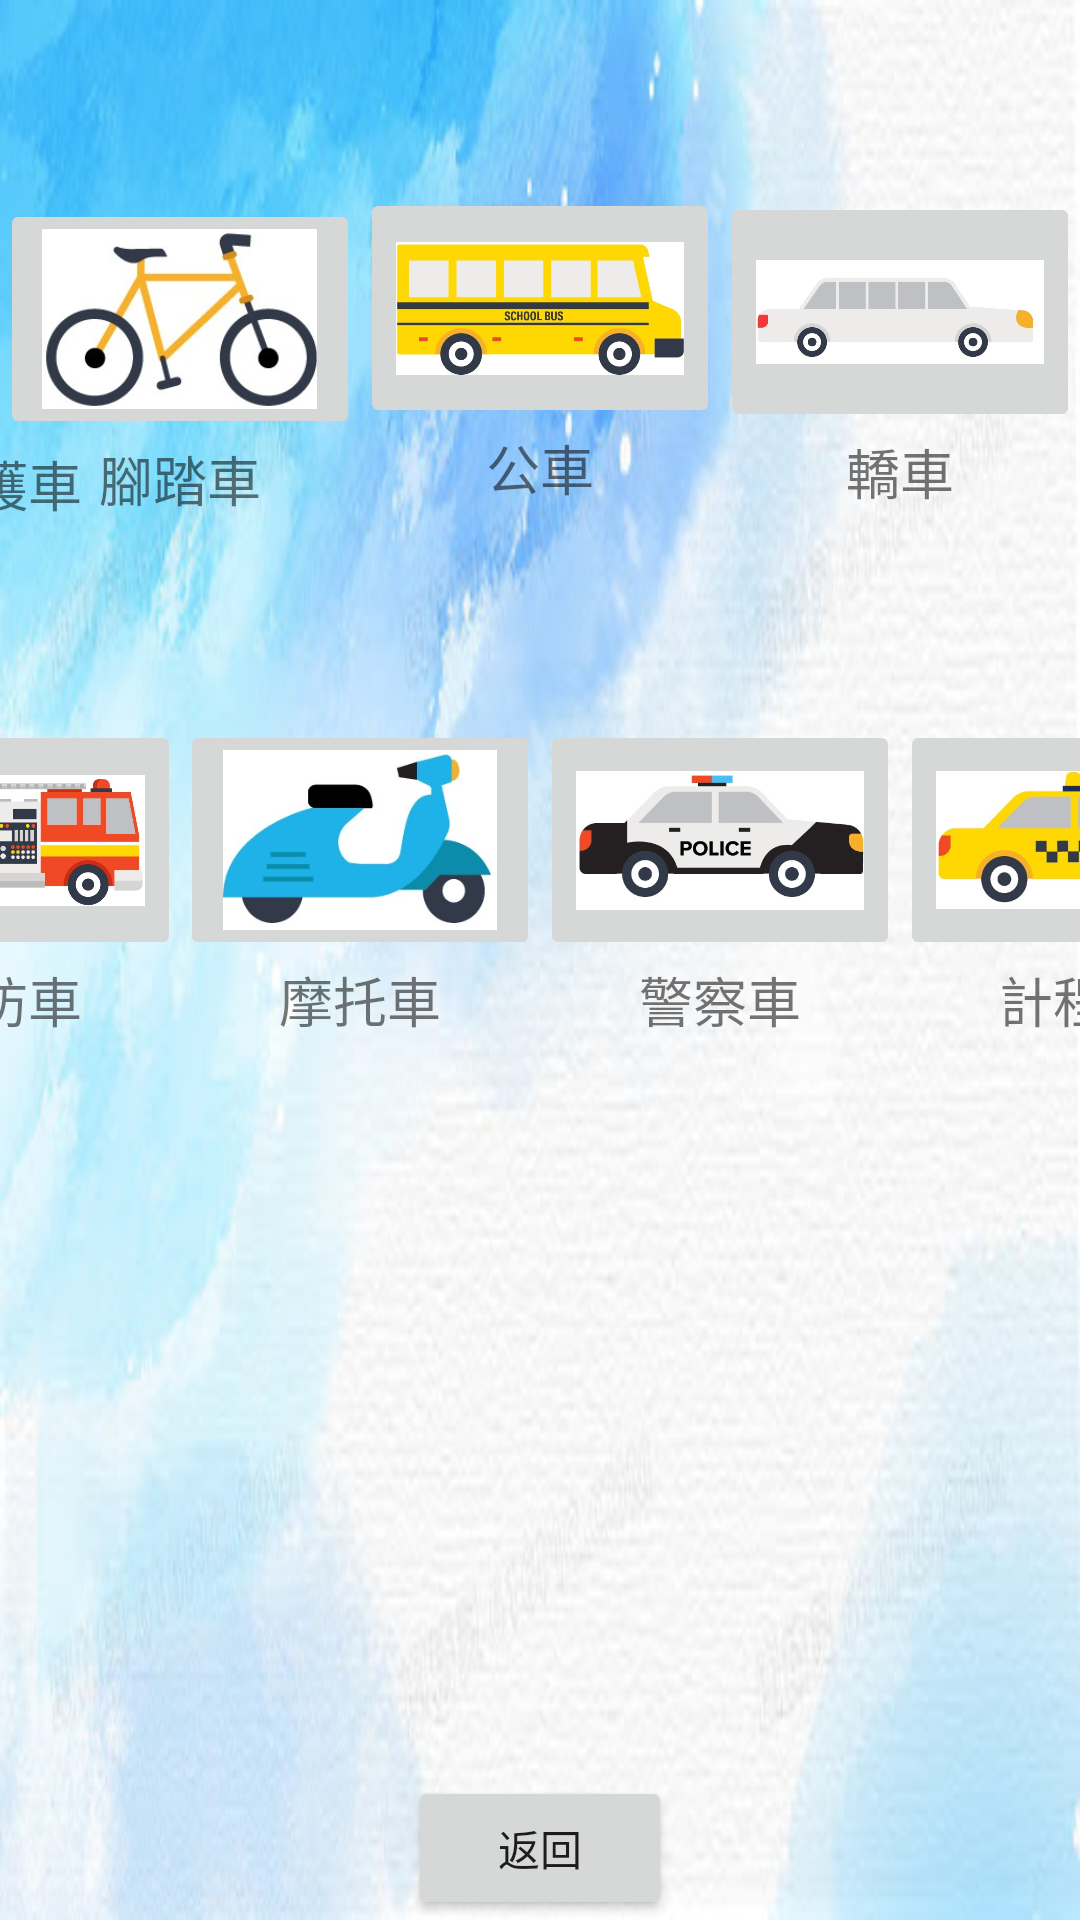

Icon click points for this 1080px×1920px phone screenshot, format (x,y):
whitecar: (894,312)
